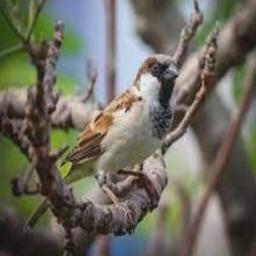Sparrow: (61, 53, 179, 218)
